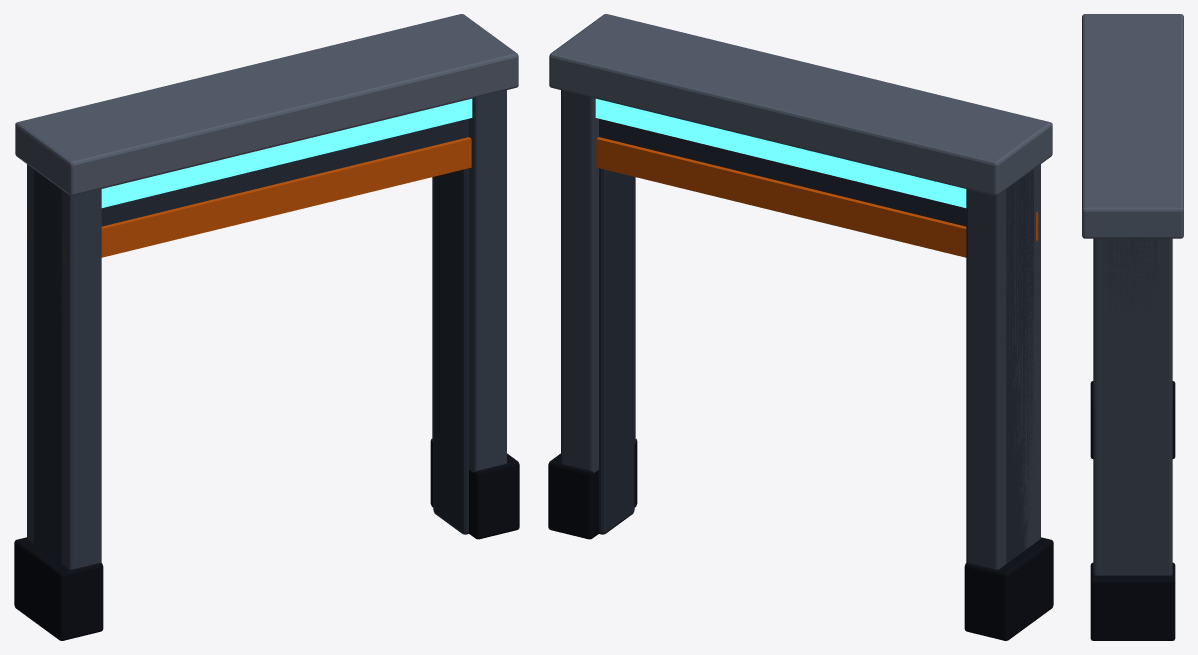
File: Wall_Door.glb
3 views of the same model, side by side, from view 1: azimuth 30°, elevation 25°; view 2: azimuth 150°, elevation 25°; view 3: azimuth 270°, elevation 25° (orthographic). The views are drawn at different scales.
Visible parts, largest first — view 1: Body, Strip_Glow; view 2: Body, Strip_Glow; view 3: Body.
Boxes of the visible parts, x1,y1,x2,y2 form: Body: (14,14,519,640); Strip_Glow: (101,98,472,207); Body: (548,14,1053,640); Strip_Glow: (595,98,966,207); Body: (1082,14,1183,640).
Bounding box in the file's own units: 8.4 × 8.4 × 1.8.
